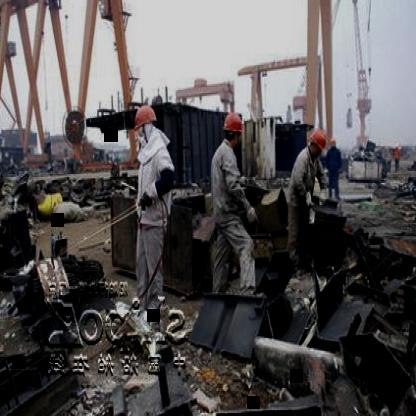helmet: (131, 100, 159, 142), (222, 112, 244, 150), (306, 126, 330, 158)
